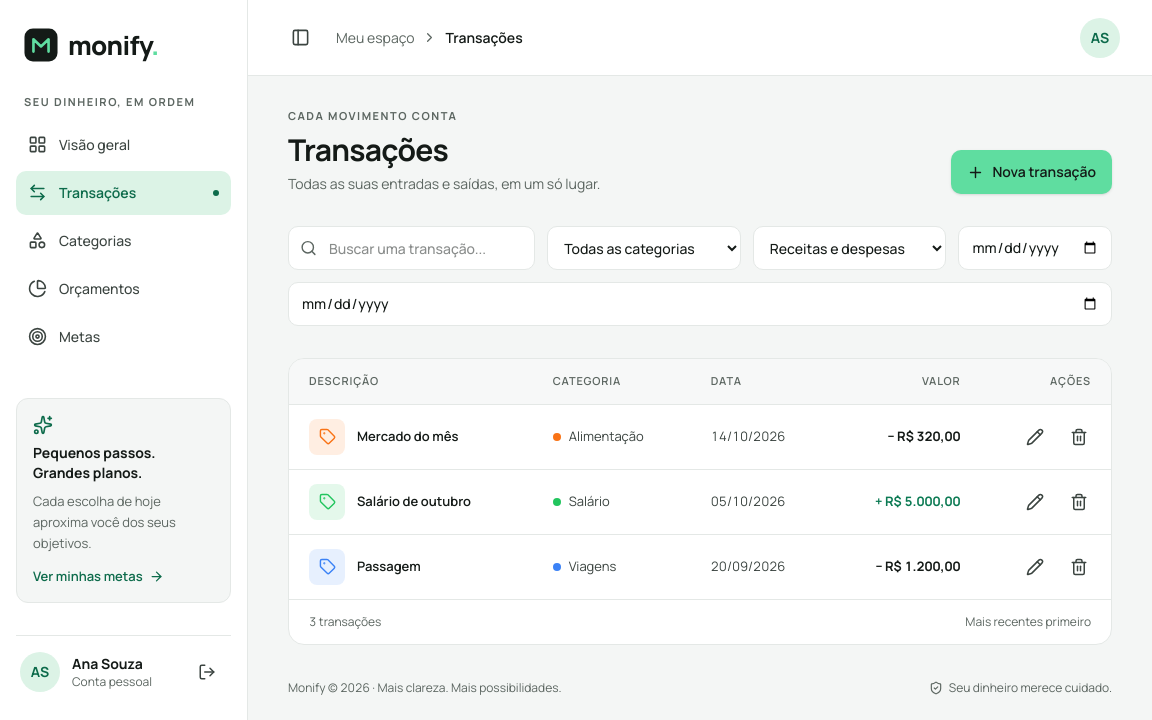
Test: Transações › deve avisar e não buscar quando a data inicial for depois da final
Expected: the text "Mercado do mês" is shown, [357, 427, 458, 446]
Type "2026-10-20" into the date field named "De" at (1035, 248), box [958, 226, 1112, 270]
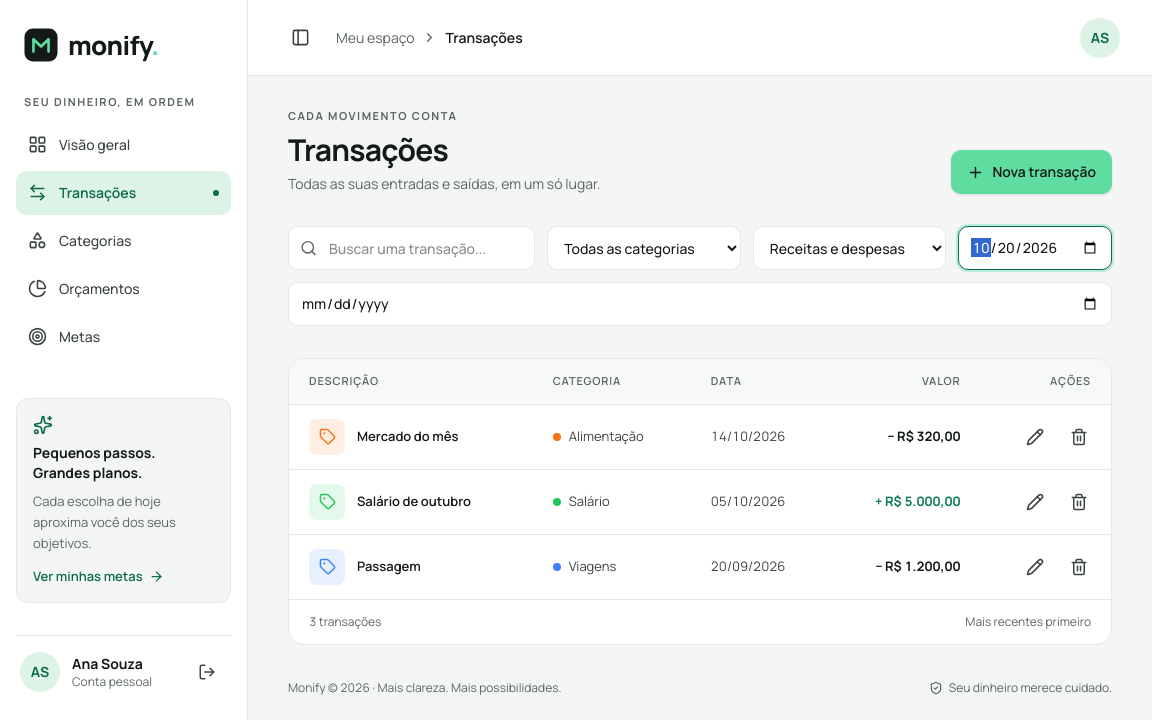
Type "2026-10-01" into the date field named "Até" at (700, 304), box [288, 282, 1112, 326]
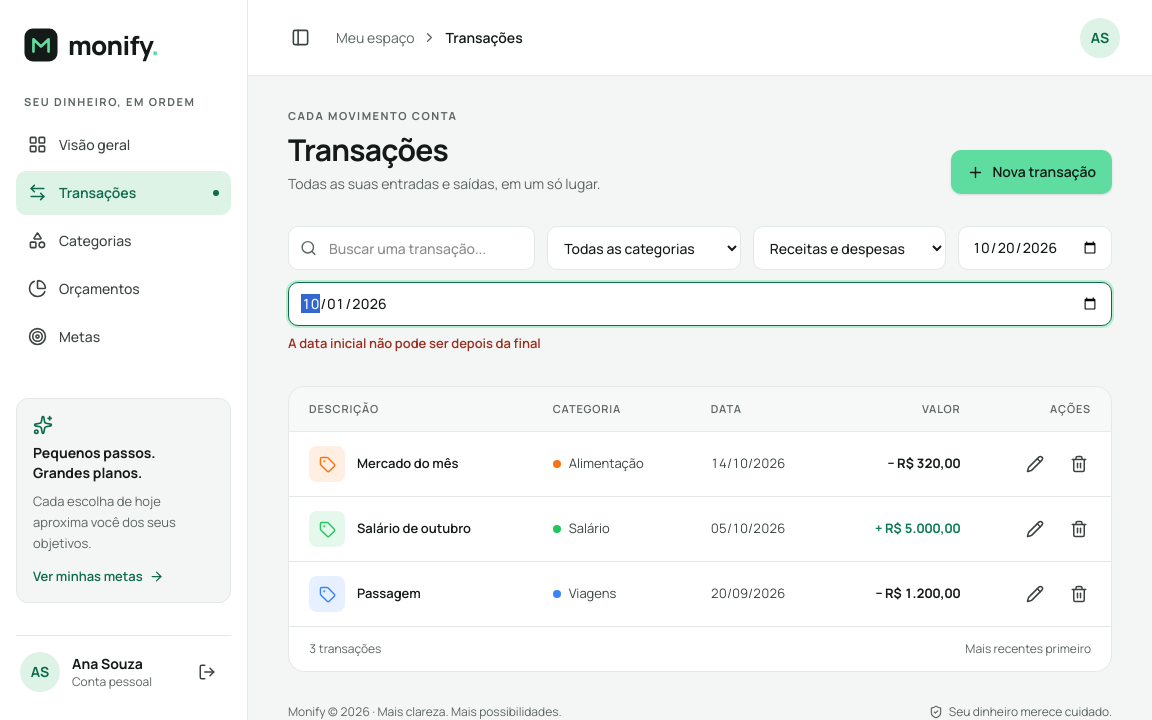
Now the text "A data inicial não pode ser depois da final" is shown, box [288, 334, 541, 352]
